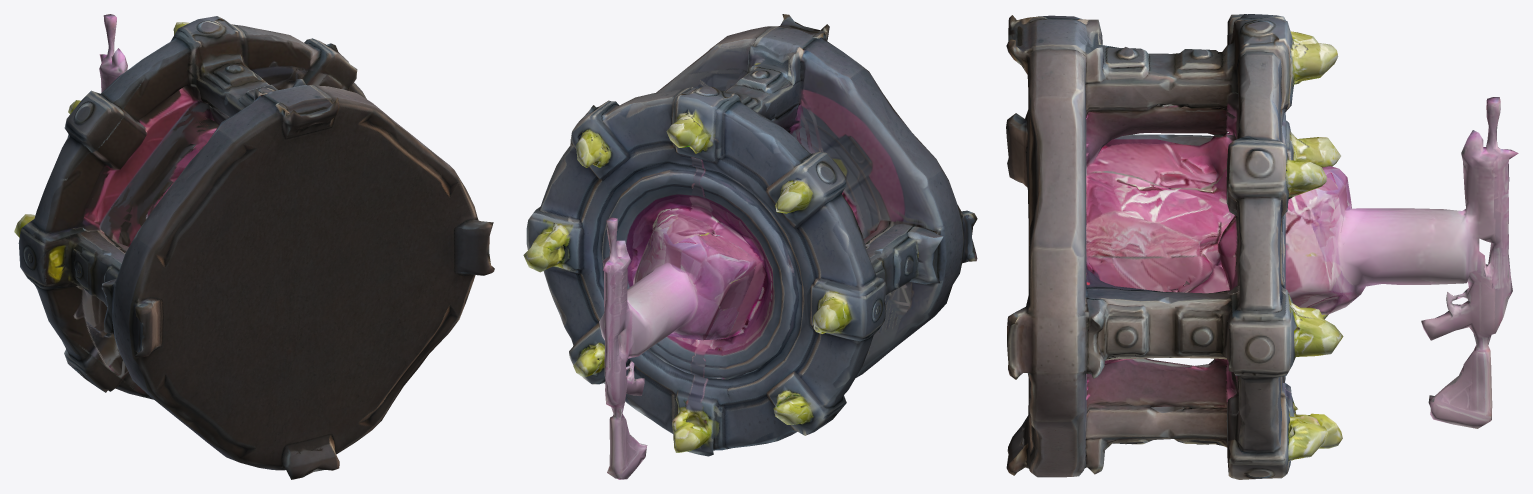
The model's file is Store.fbx.
3 views of the same model, side by side, from view 1: azimuth 30°, elevation 25°; view 2: azimuth 150°, elevation 25°; view 3: azimuth 270°, elevation 25° (orthographic). The views are drawn at different scales.
Visible parts, largest first — view 1: texture_mapping; view 2: texture_mapping; view 3: texture_mapping.
Part boxes in pixels (left/top/right/bottom): texture_mapping: left=14, top=14, right=494, bottom=479; texture_mapping: left=523, top=14, right=977, bottom=479; texture_mapping: left=1006, top=14, right=1518, bottom=479.
Bounding box in the file's own units: 2.83 × 2.84 × 2.96.
Materials: 1 (1 with a texture image).
